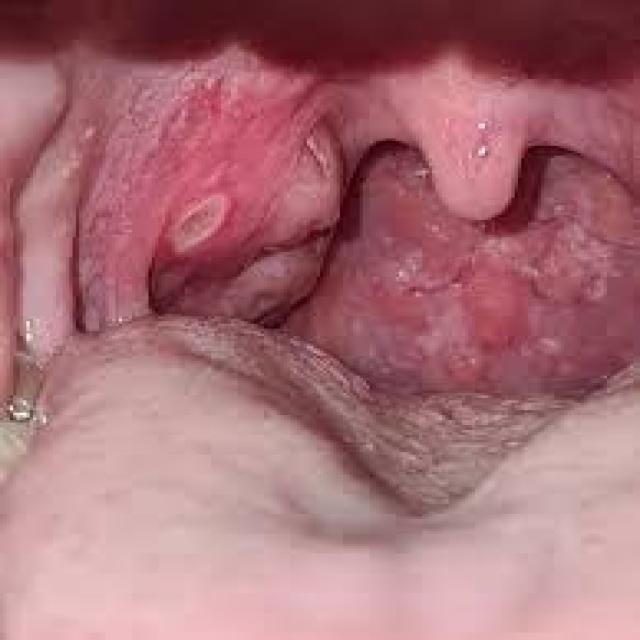ulcer-detection: (0, 42, 637, 638)
